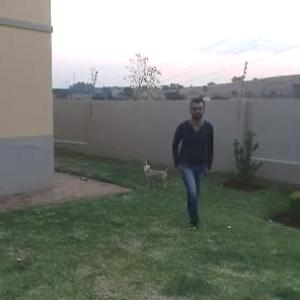follow: (167, 91, 213, 230)
